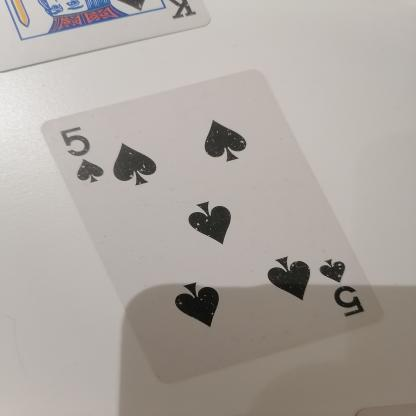5S: (308, 258, 378, 326), (49, 122, 104, 187)
